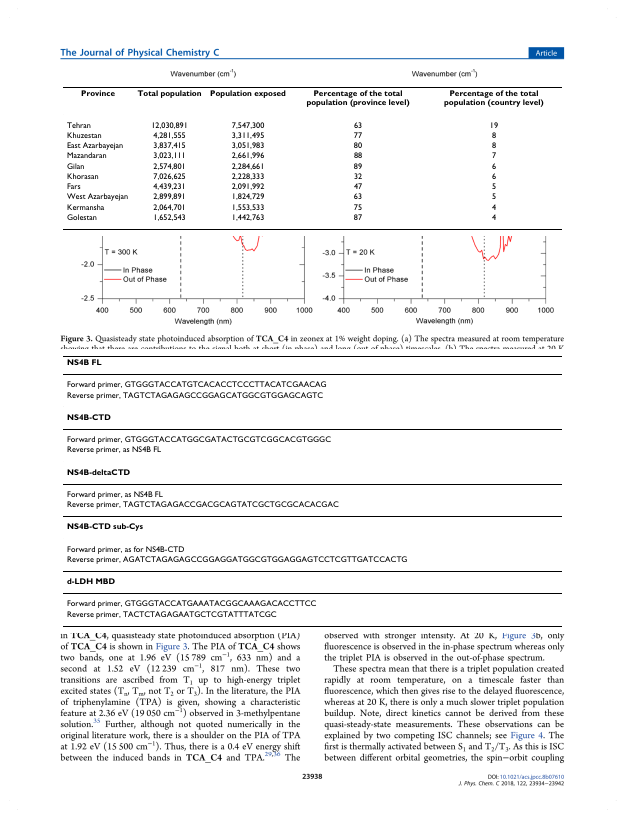borderless: (62, 354, 562, 626), (62, 85, 562, 229)
cell: (65, 555, 408, 565), (65, 500, 339, 510), (65, 435, 332, 445), (65, 391, 324, 401), (65, 381, 327, 390), (65, 600, 317, 609), (65, 610, 277, 620), (305, 90, 410, 108), (443, 90, 544, 108), (65, 545, 185, 555), (65, 490, 163, 500), (65, 446, 162, 455), (65, 523, 144, 532), (209, 90, 286, 99), (65, 468, 131, 478), (136, 90, 202, 99), (65, 193, 129, 202), (65, 142, 124, 151), (65, 413, 111, 423), (65, 578, 115, 587), (65, 203, 105, 213), (150, 121, 188, 131), (65, 152, 107, 161), (65, 131, 102, 141), (230, 121, 265, 131), (230, 131, 265, 141), (230, 162, 265, 172), (230, 172, 265, 182), (230, 203, 265, 213), (230, 213, 265, 223), (152, 131, 186, 141), (152, 162, 186, 172), (65, 172, 99, 182), (152, 172, 186, 182), (152, 203, 186, 213), (152, 213, 186, 223), (65, 359, 102, 368), (65, 213, 97, 223), (80, 90, 115, 99), (230, 142, 265, 151), (230, 152, 265, 161), (230, 183, 265, 192), (230, 193, 265, 202), (152, 142, 186, 151), (152, 152, 186, 161), (152, 183, 186, 192), (152, 193, 186, 202), (65, 121, 91, 131), (65, 162, 85, 172), (65, 183, 81, 192), (352, 121, 363, 131), (488, 121, 499, 131), (352, 131, 363, 141), (352, 162, 363, 172), (352, 172, 363, 182), (352, 203, 363, 213), (352, 213, 363, 223), (352, 142, 363, 151), (352, 152, 363, 161), (352, 183, 363, 192), (352, 193, 363, 202), (490, 172, 497, 182), (490, 213, 497, 223), (490, 142, 497, 151), (490, 152, 497, 161), (490, 183, 497, 192), (490, 193, 497, 202), (490, 131, 496, 141), (490, 162, 496, 172), (490, 203, 496, 213)
